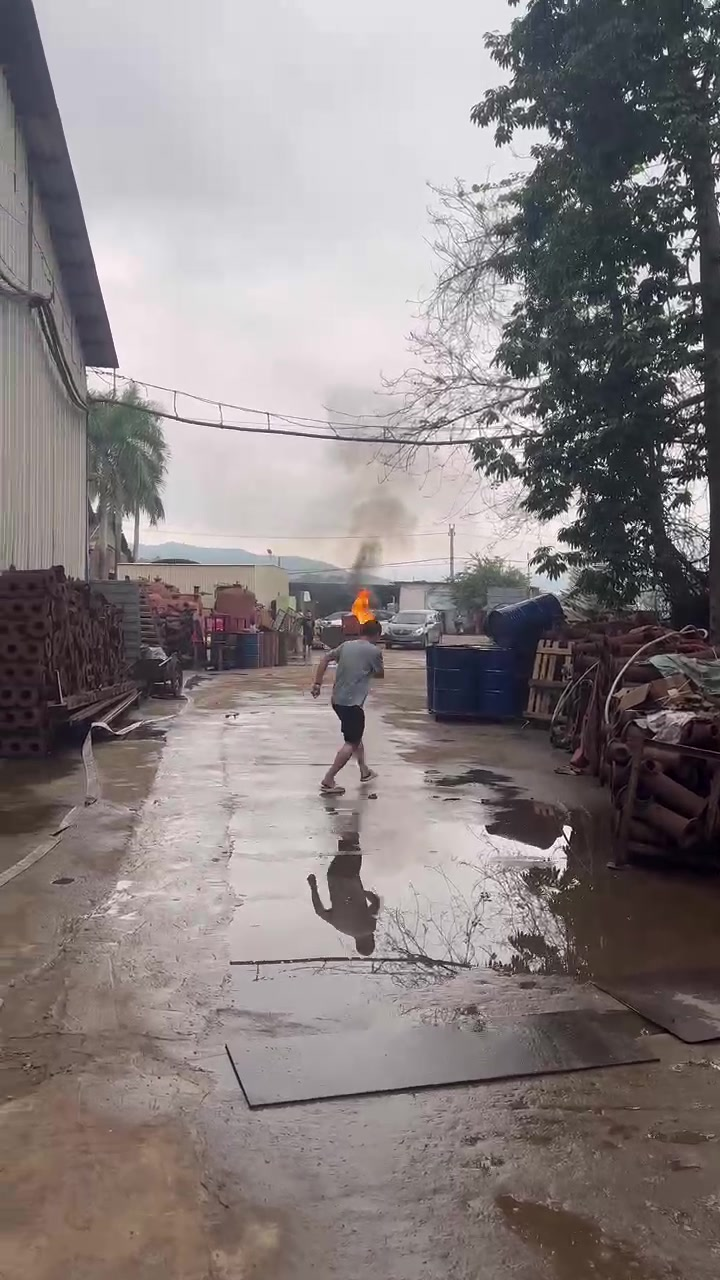fire: (351, 589, 373, 623)
